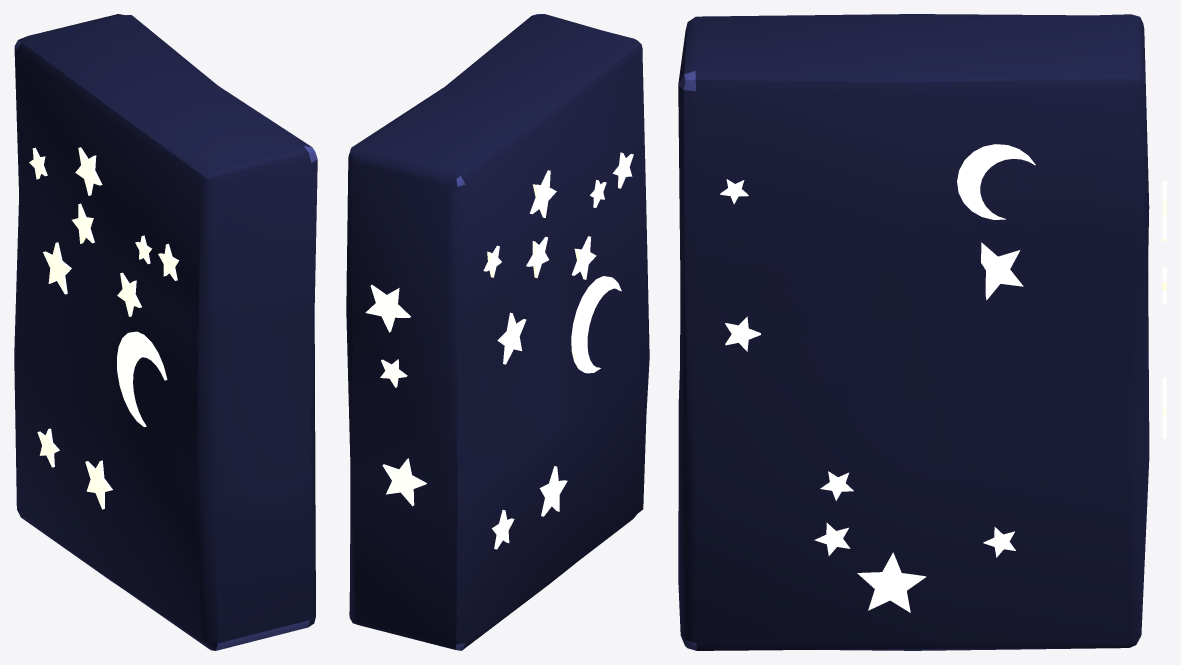
Rendered from den_bookend.glb.
The picture shows the model from 3 angles, left to right: view 1: azimuth 30°, elevation 25°; view 2: azimuth 150°, elevation 25°; view 3: azimuth 270°, elevation 25°; orthographic projection. The views are drawn at different scales.
Parts seen in each view (by area): view 1: den_bookend; view 2: den_bookend; view 3: den_bookend.
Boxes of the visible parts, x1,y1,x2,y2 form: den_bookend: (14, 14, 317, 650); den_bookend: (346, 14, 649, 650); den_bookend: (678, 14, 1166, 650).
Bounding box in the file's own units: 2.54 × 9.54 × 7.25.
